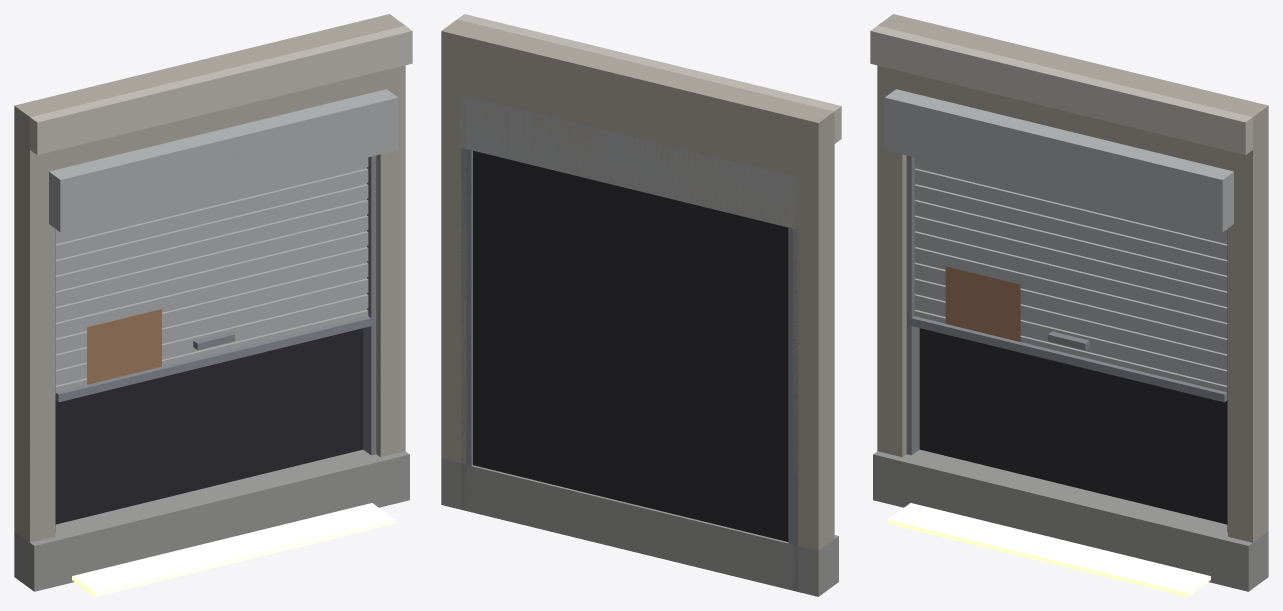
The model's file is ground_shutter_open.glb.
The picture shows the model from 3 angles, left to right: view 1: azimuth 30°, elevation 25°; view 2: azimuth 150°, elevation 25°; view 3: azimuth 330°, elevation 25°; orthographic projection.
Parts seen in each view (by area): view 1: ground_shutter_open; view 2: ground_shutter_open; view 3: ground_shutter_open.
Boxes of the visible parts, bbox=[...] form: ground_shutter_open: bbox=[14, 14, 412, 596]; ground_shutter_open: bbox=[441, 14, 841, 596]; ground_shutter_open: bbox=[870, 14, 1268, 596].
Bounding box in the file's own units: 3 × 3.6 × 0.6.
